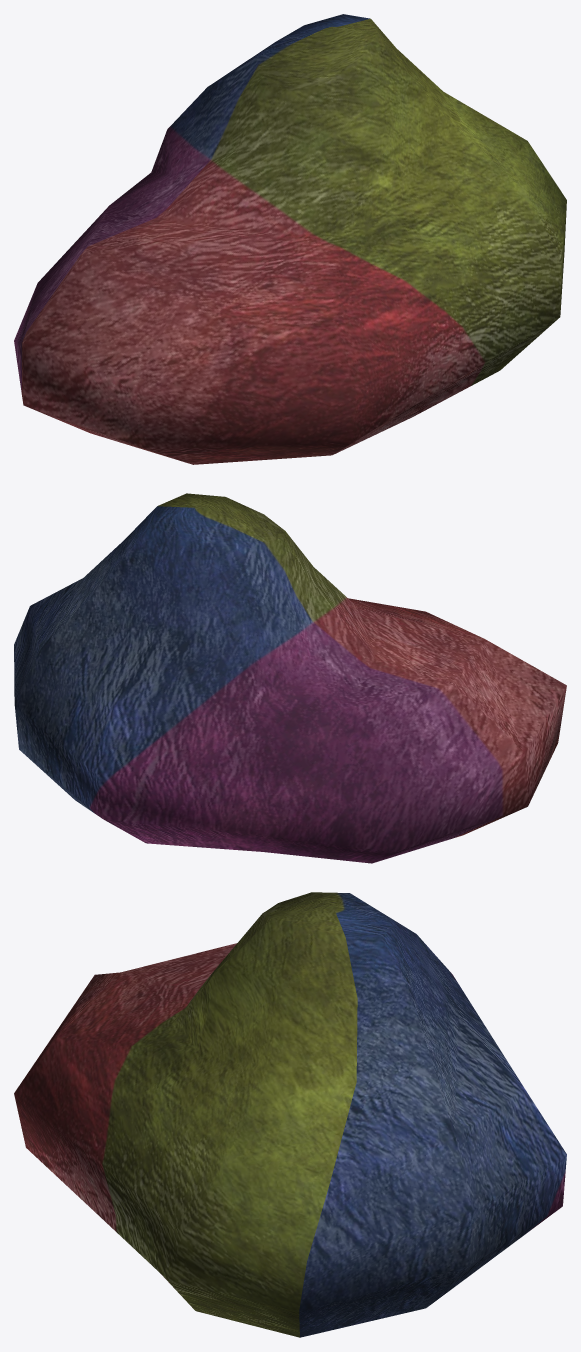
Rendered from Bush01.glb.
3 renders of one model, top to bottom at view 1: azimuth 30°, elevation 25°; view 2: azimuth 150°, elevation 25°; view 3: azimuth 270°, elevation 25°, orthographic. The views are drawn at different scales.
Visible parts, largest first — view 1: Bush01; view 2: Bush01; view 3: Bush01.
Boxes of the visible parts, x1,y1,x2,y2 form: Bush01: [14, 14, 566, 464]; Bush01: [14, 493, 566, 863]; Bush01: [14, 892, 566, 1337].
Bounding box in the file's own units: 2.45 × 1.34 × 1.94.
1 material, 1 textured.
